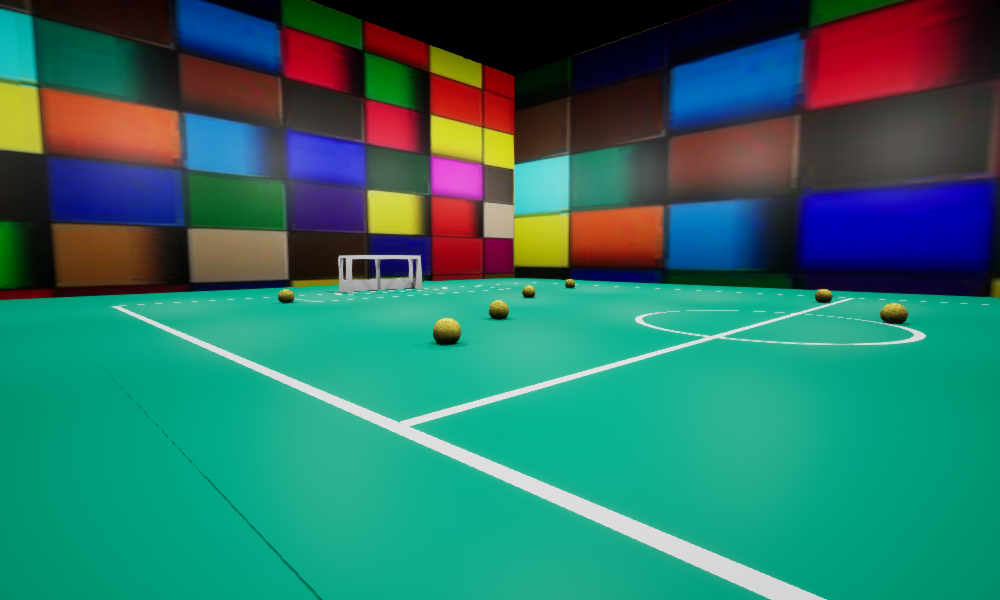b: (433, 318, 460, 344), (880, 303, 907, 323), (489, 300, 508, 318), (815, 289, 832, 301), (278, 289, 293, 302), (522, 285, 535, 297), (565, 279, 574, 287)
g: (338, 255, 421, 292)
